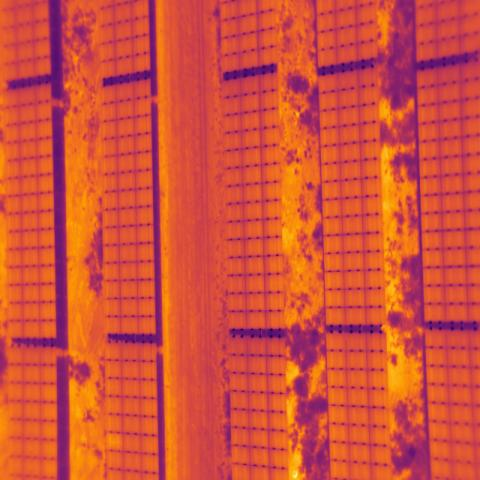fault: (106, 432, 124, 454)
